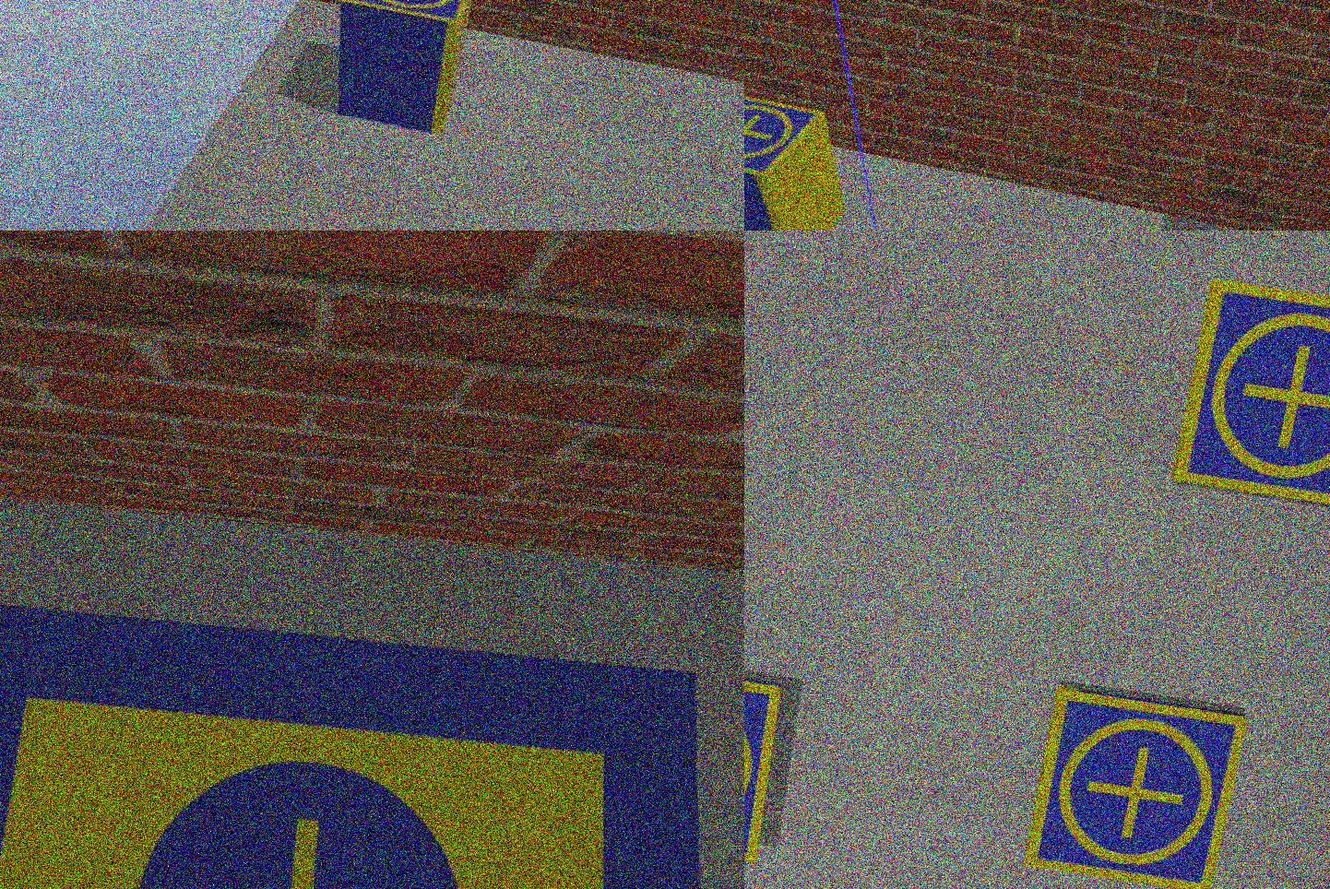large_base: (1, 564, 745, 889)
small_base: (1026, 684, 1250, 889), (1170, 273, 1330, 520), (745, 82, 827, 181), (338, 1, 481, 35)
